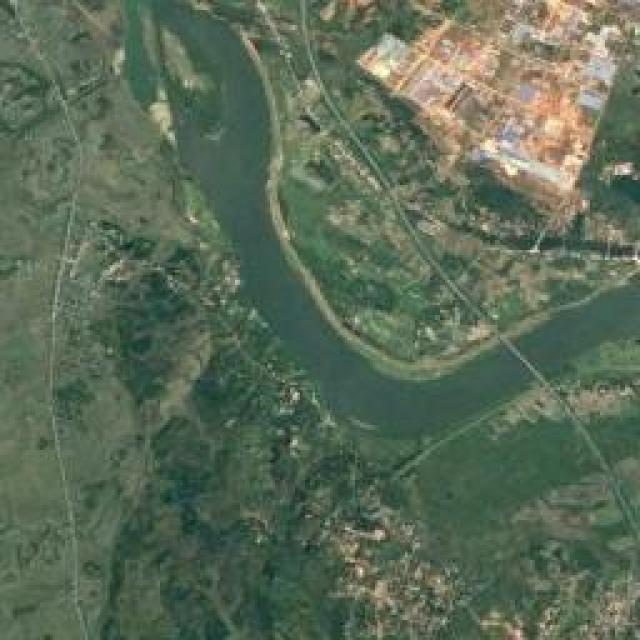Agriculture: (0, 2, 640, 640)
City: (352, 0, 638, 230)
